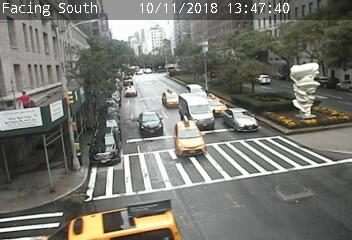car: (179, 93, 214, 131), (89, 129, 120, 165), (175, 121, 206, 157), (222, 108, 259, 133), (139, 112, 162, 136), (201, 96, 227, 116), (185, 84, 208, 102), (162, 91, 180, 108), (253, 74, 271, 85), (124, 85, 137, 97)
